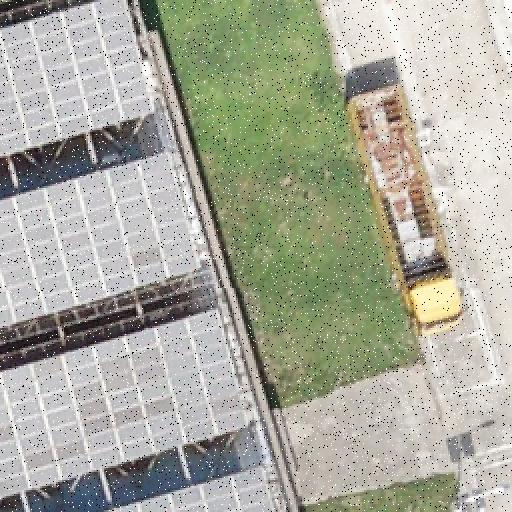solar-panel: (0, 307, 250, 501), (0, 152, 200, 324), (1, 0, 159, 160), (108, 464, 276, 512)
